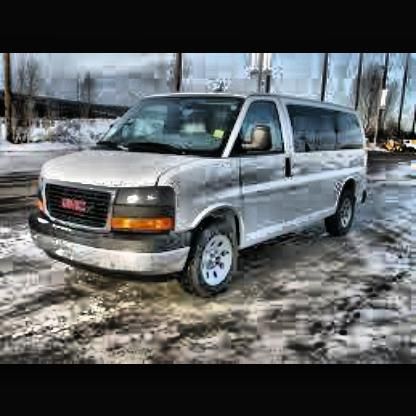GMC Savana Van 2012: (33, 91, 373, 303)
